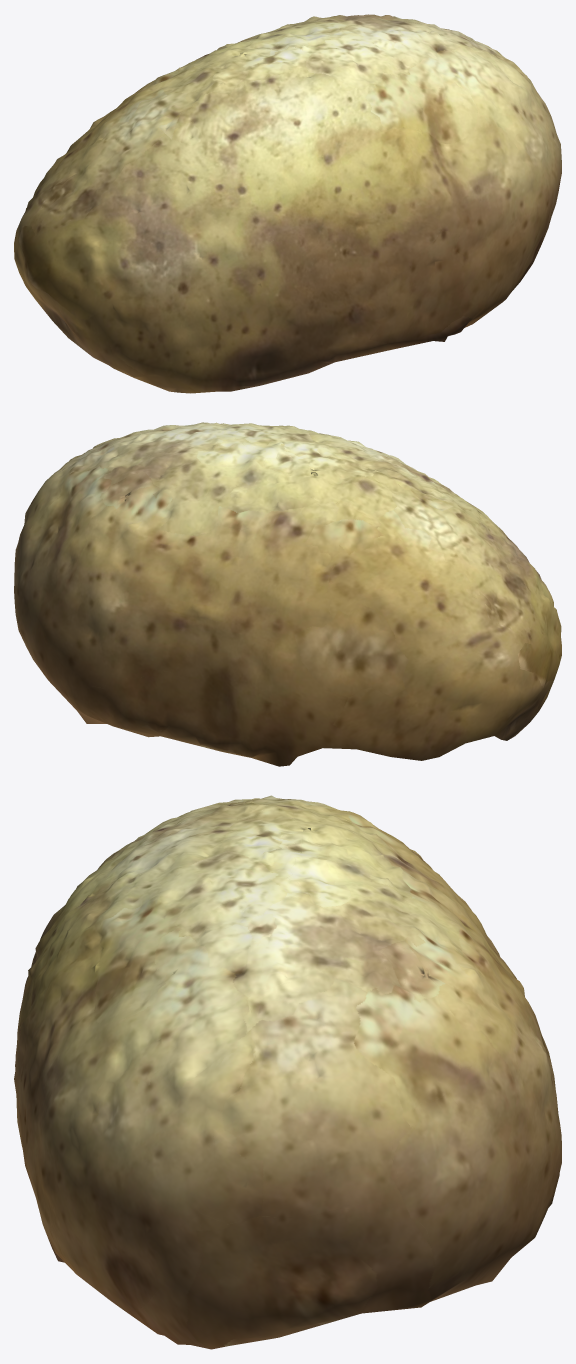
The model's file is Potato.gltf.
3 views of the same model, one above another, from view 1: azimuth 30°, elevation 25°; view 2: azimuth 150°, elevation 25°; view 3: azimuth 270°, elevation 25° (orthographic). The views are drawn at different scales.
Parts seen in each view (by area): view 1: baked_mesh; view 2: baked_mesh; view 3: baked_mesh.
Boxes of the visible parts, <box> form: baked_mesh: <box>14,14,561,393</box>; baked_mesh: <box>14,422,561,766</box>; baked_mesh: <box>14,795,561,1349</box>.
Size of the model in its own units: 0.2116 by 0.1138 by 0.1425.
1 material, 1 textured.
